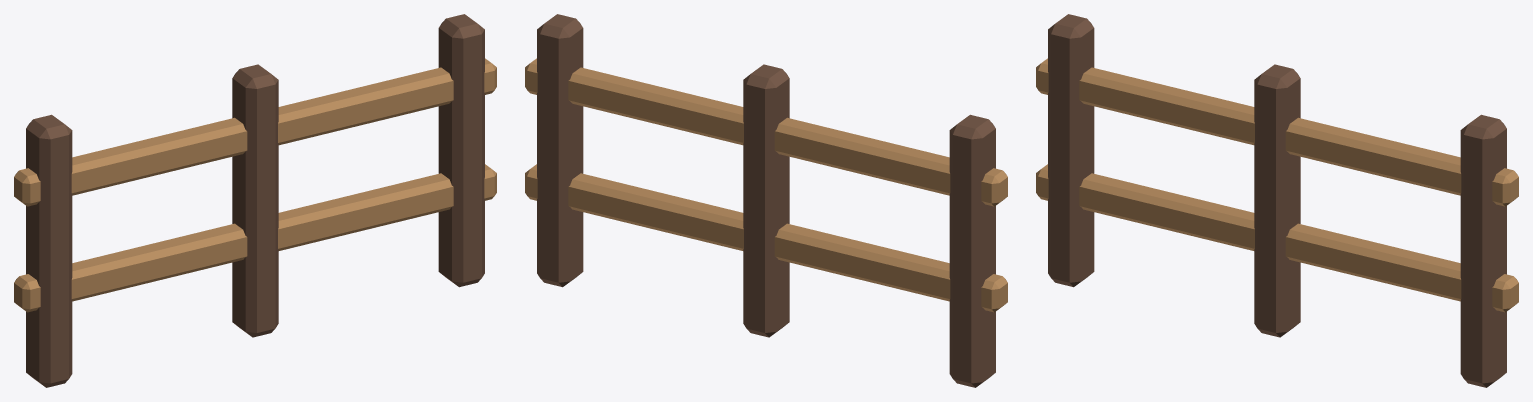
Rendered from fence.glb.
3 renders of one model, left to right at view 1: azimuth 30°, elevation 25°; view 2: azimuth 150°, elevation 25°; view 3: azimuth 330°, elevation 25°, orthographic.
Visible parts, largest first — view 1: fence-rail.001, fence-rail, fence-post, fence-post.002, fence-post.001; view 2: fence-rail.001, fence-rail, fence-post, fence-post.002, fence-post.001; view 3: fence-rail.001, fence-rail, fence-post.002, fence-post, fence-post.001.
Boxes of the visible parts, left/top/right/bottom form: fence-rail.001: left=14, top=58, right=496, bottom=206; fence-rail: left=14, top=164, right=496, bottom=312; fence-post: left=26, top=114, right=72, bottom=387; fence-post.002: left=438, top=14, right=484, bottom=287; fence-post.001: left=232, top=64, right=278, bottom=337; fence-rail.001: left=525, top=58, right=1007, bottom=206; fence-rail: left=525, top=164, right=1007, bottom=312; fence-post: left=949, top=114, right=995, bottom=387; fence-post.002: left=537, top=14, right=583, bottom=287; fence-post.001: left=743, top=64, right=789, bottom=337; fence-rail.001: left=1036, top=58, right=1518, bottom=206; fence-rail: left=1036, top=164, right=1518, bottom=312; fence-post.002: left=1460, top=114, right=1506, bottom=387; fence-post: left=1048, top=14, right=1094, bottom=287; fence-post.001: left=1254, top=64, right=1300, bottom=337.
Size of the model in its own units: 2.3 by 1.2 by 0.18.
